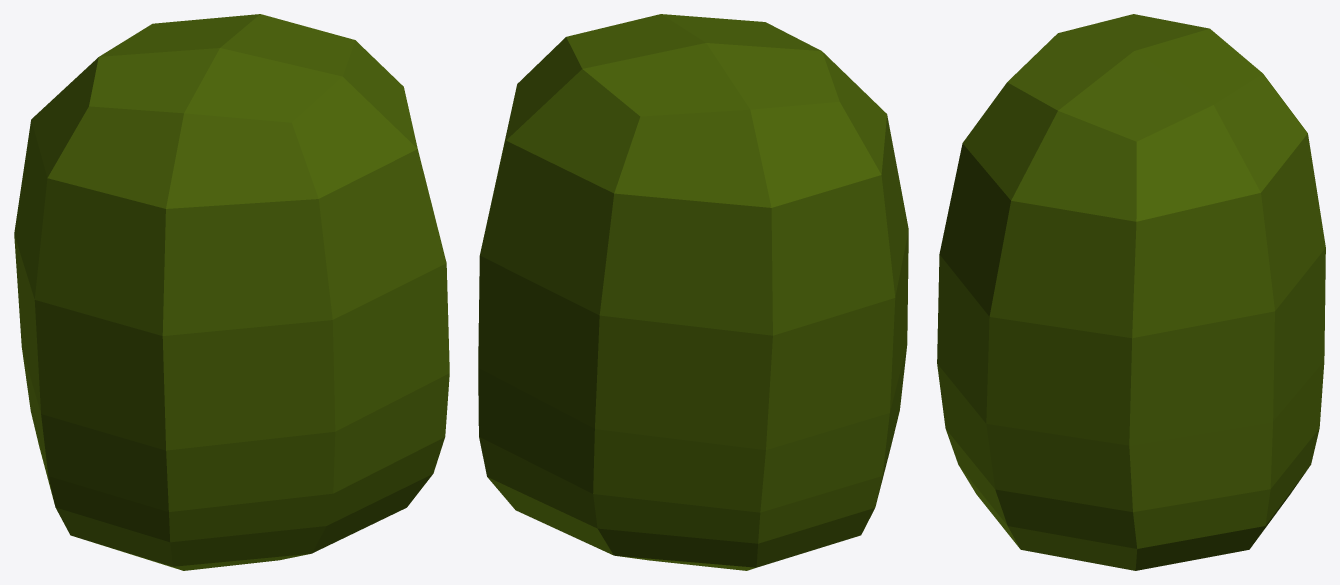
File: ArbustoAlto.fbx
3 renders of one model, left to right at view 1: azimuth 30°, elevation 25°; view 2: azimuth 150°, elevation 25°; view 3: azimuth 270°, elevation 25°, orthographic. The views are drawn at different scales.
Parts seen in each view (by area): view 1: Cube; view 2: Cube; view 3: Cube.
Part boxes in pixels (left/top/right/bottom): Cube: left=14, top=14, right=449, bottom=570; Cube: left=478, top=14, right=908, bottom=570; Cube: left=937, top=14, right=1325, bottom=570.
Bounding box in the file's own units: 276 × 324 × 243.
